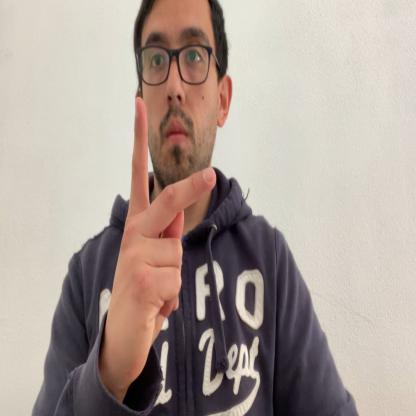P: (105, 97, 216, 380)
